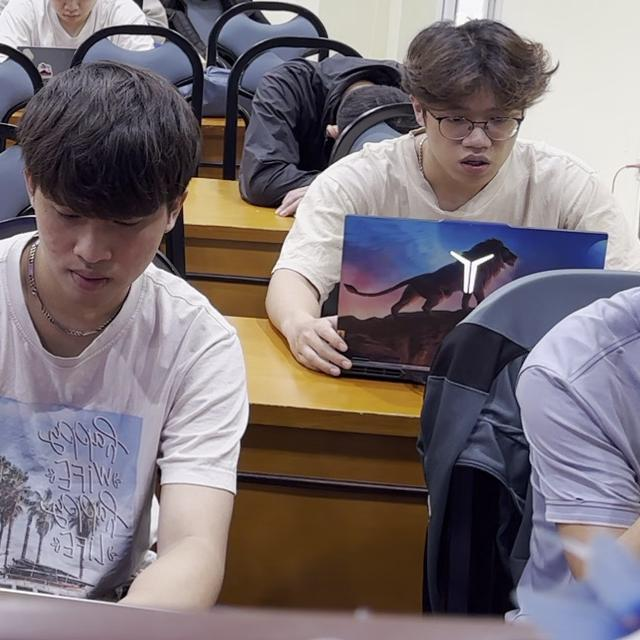Looking away: (34, 185, 171, 301), (429, 89, 522, 188)
